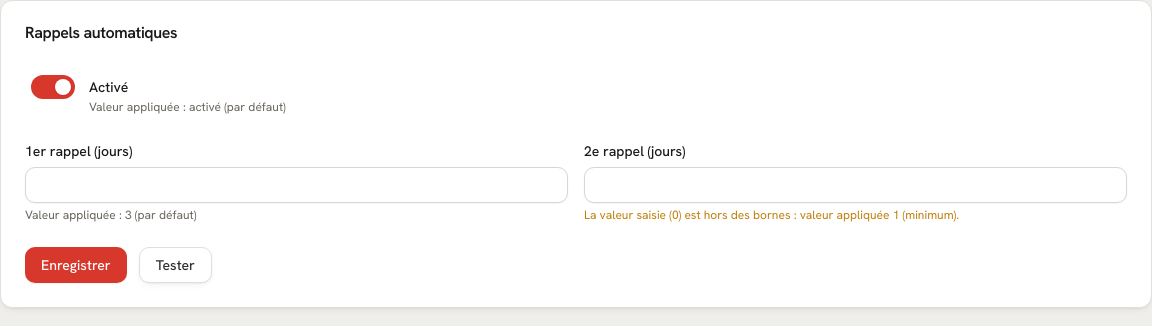
ConfigSection › affiche l’échec d’un test de connexion avec son message
Click the button "Tester".
click(175, 265)  # box x1=139 y1=247 x2=212 y2=283
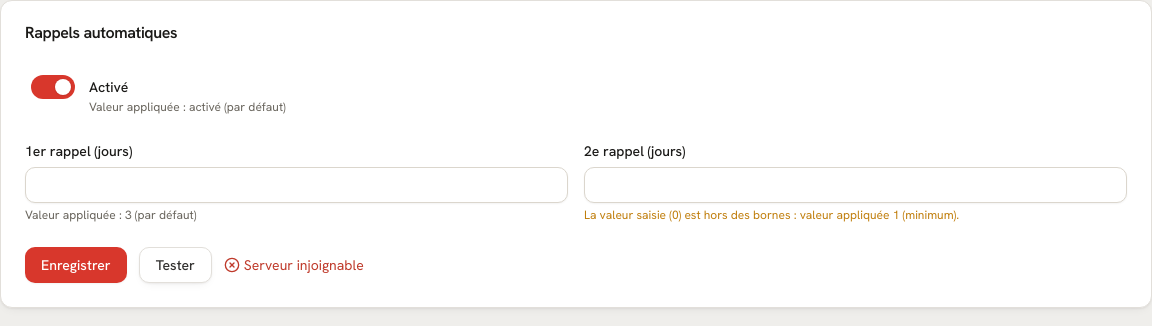
Now the message reads "Serveur injoignable", box x1=244 y1=256 x2=364 y2=274
